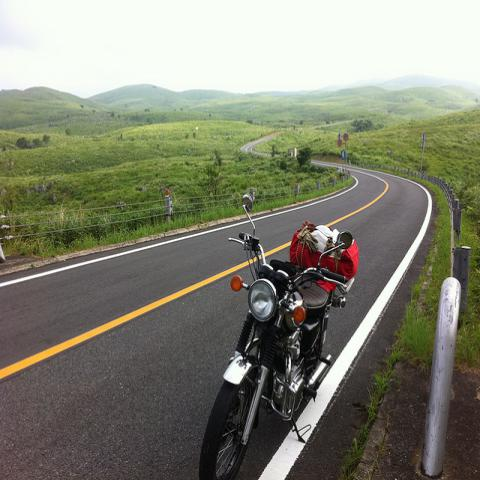motorcycle: (198, 190, 358, 479)
